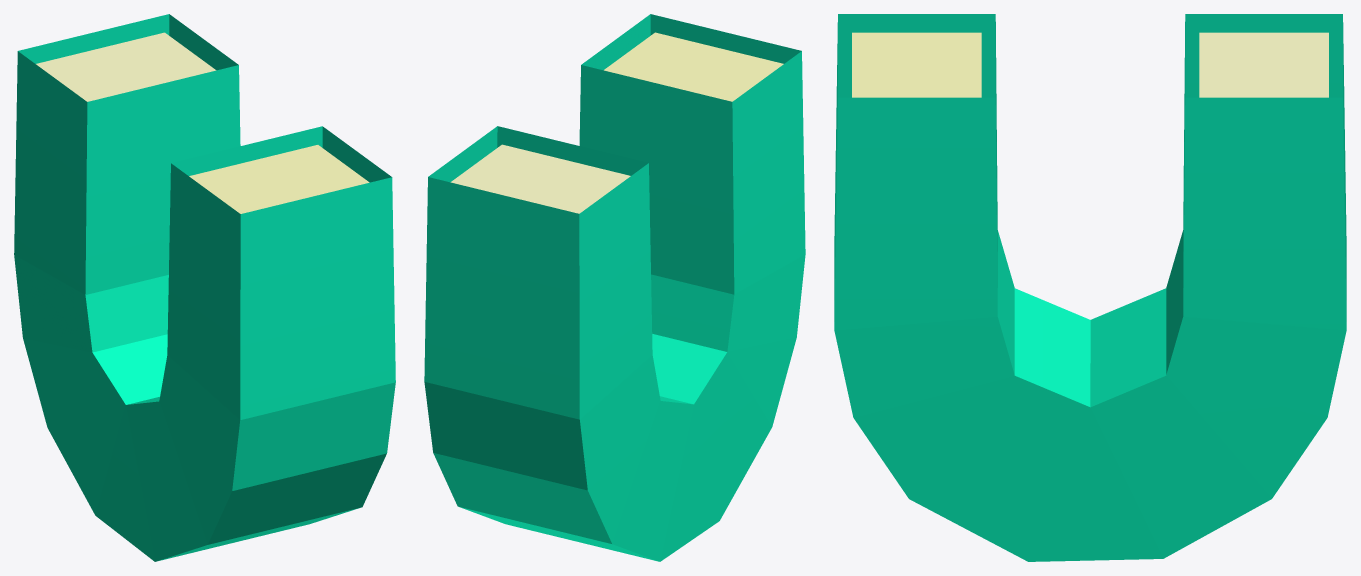
File: magnet_booster.fbx
3 renders of one model, left to right at view 1: azimuth 30°, elevation 25°; view 2: azimuth 150°, elevation 25°; view 3: azimuth 270°, elevation 25°, orthographic. The views are drawn at different scales.
Visible parts, largest first — view 1: magnet_booster; view 2: magnet_booster; view 3: magnet_booster.
Boxes of the visible parts, x1,y1,x2,y2 form: magnet_booster: (14,14,395,561); magnet_booster: (424,14,805,561); magnet_booster: (834,14,1346,561).
Bounding box in the file's own units: 0.8312 × 2.05 × 2.06.
